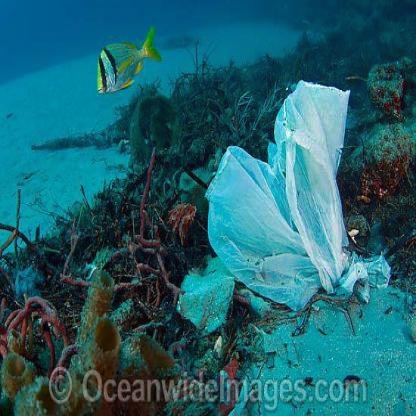pbag: (204, 80, 390, 317)
